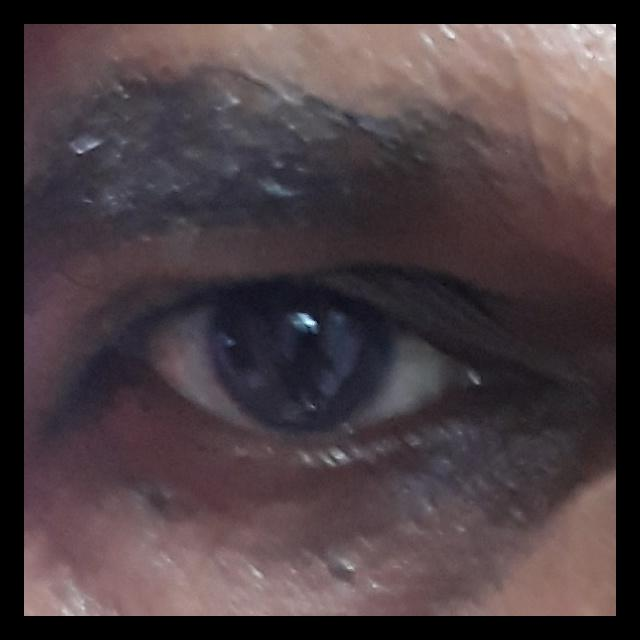eye: (141, 290, 463, 441)
iris: (211, 299, 392, 430)
